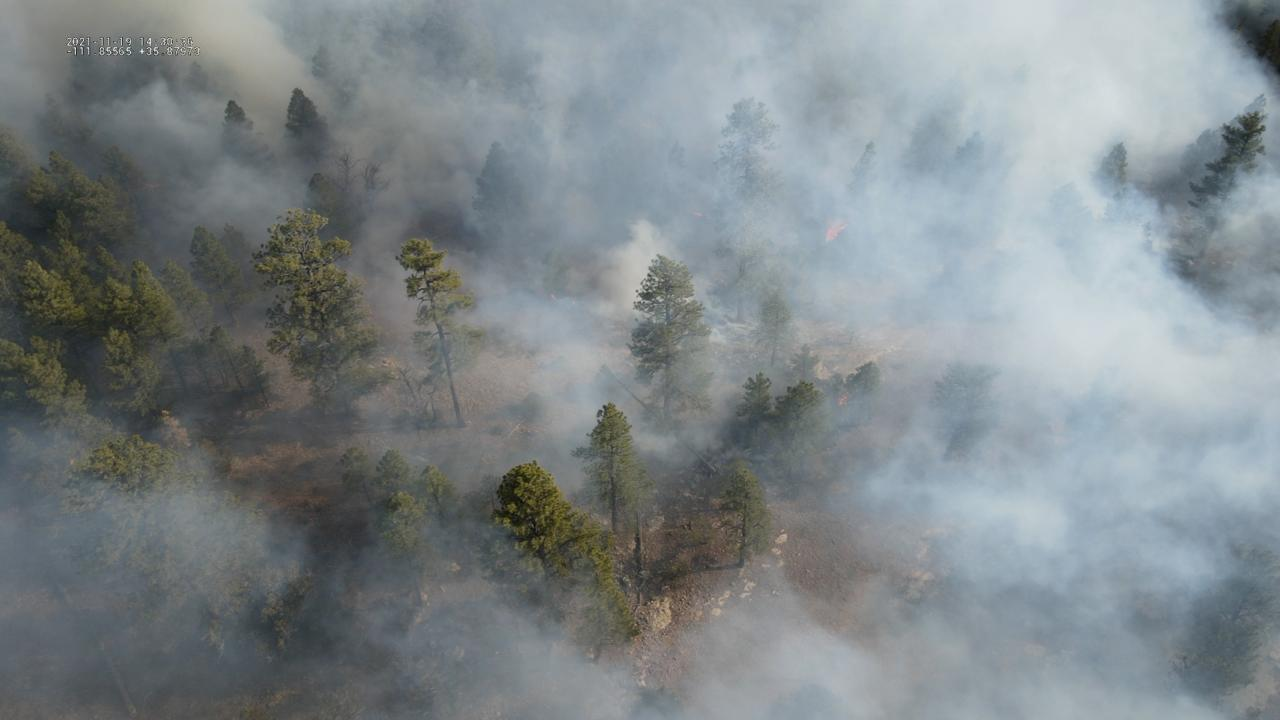fire: (824, 218, 849, 244), (837, 391, 851, 407)
smoke: (0, 0, 1280, 720)
